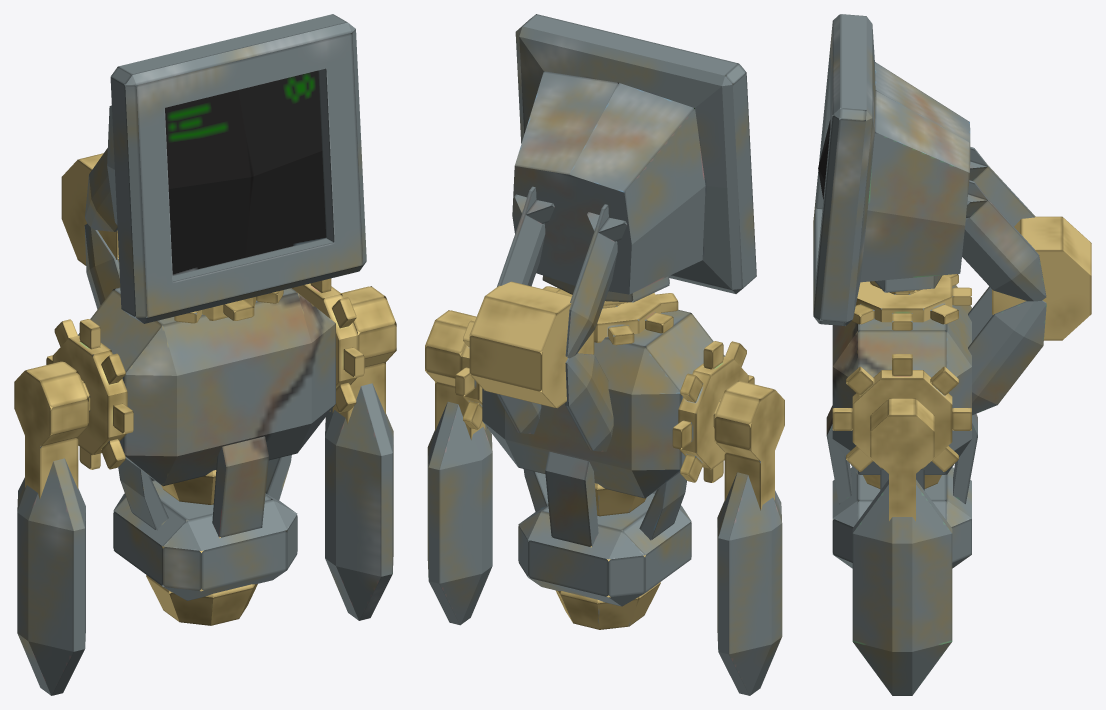
Rendered from NPC01.fbx.
3 views of the same model, side by side, from view 1: azimuth 30°, elevation 25°; view 2: azimuth 150°, elevation 25°; view 3: azimuth 270°, elevation 25° (orthographic). The views are drawn at different scales.
Visible parts, largest first — view 1: beveled_cuboid, beveled_cuboid_1, beveled_cuboid_6, cylinder_2, beveled_cuboid_7, beveled_cuboid_8, cylinder_1, sphere_1, cylinder_3, beveled_cuboid_5, beveled_cuboid_3, cylinder (+1 smaller); view 2: beveled_cuboid, beveled_cuboid_1, beveled_cuboid_6, cylinder_2, beveled_cuboid_7, beveled_cuboid_8, cylinder_3, cylinder_1, beveled_cuboid_3, beveled_cuboid_5, cylinder, beveled_cuboid_2 (+3 smaller); view 3: beveled_cuboid, beveled_cuboid_8, cylinder_1, beveled_cuboid_1, beveled_cuboid_6, cylinder_3, beveled_cuboid_2, beveled_cuboid_4, cylinder, beveled_cuboid_3, beveled_cuboid_5.
Boxes of the visible parts, x1=… form: beveled_cuboid: x1=107, y1=14, x2=366, y2=323; beveled_cuboid_1: x1=78, y1=287, x2=335, y2=486; beveled_cuboid_6: x1=113, y1=436, x2=297, y2=600; cylinder_2: x1=14, y1=319, x2=133, y2=498; beveled_cuboid_7: x1=17, y1=446, x2=85, y2=695; beveled_cuboid_8: x1=325, y1=383, x2=393, y2=620; cylinder_1: x1=292, y1=278, x2=396, y2=423; sphere_1: x1=146, y1=537, x2=257, y2=625; cylinder_3: x1=61, y1=153, x2=119, y2=265; beveled_cuboid_5: x1=84, y1=223, x2=120, y2=309; beveled_cuboid_3: x1=85, y1=148, x2=117, y2=231; cylinder: x1=174, y1=290, x2=283, y2=323; beveled_cuboid: x1=512, y1=14, x2=756, y2=302; beveled_cuboid_1: x1=482, y1=287, x2=724, y2=498; beveled_cuboid_6: x1=518, y1=451, x2=691, y2=606; cylinder_2: x1=672, y1=341, x2=784, y2=510; beveled_cuboid_7: x1=717, y1=460, x2=782, y2=695; beveled_cuboid_8: x1=427, y1=401, x2=492, y2=625; cylinder_3: x1=469, y1=281, x2=594, y2=408; cylinder_1: x1=425, y1=310, x2=487, y2=439; beveled_cuboid_3: x1=565, y1=204, x2=626, y2=358; beveled_cuboid_5: x1=565, y1=353, x2=613, y2=451; cylinder: x1=543, y1=286, x2=678, y2=345; beveled_cuboid_2: x1=497, y1=186, x2=554, y2=286; beveled_cuboid: x1=813, y1=14, x2=970, y2=325; beveled_cuboid_8: x1=852, y1=479, x2=952, y2=695; cylinder_1: x1=832, y1=354, x2=971, y2=521; beveled_cuboid_1: x1=832, y1=285, x2=971, y2=474; beveled_cuboid_6: x1=826, y1=405, x2=977, y2=568; cylinder_3: x1=992, y1=216, x2=1091, y2=340; beveled_cuboid_2: x1=962, y1=180, x2=1046, y2=301; beveled_cuboid_4: x1=968, y1=300, x2=1046, y2=415; cylinder: x1=851, y1=274, x2=971, y2=330; beveled_cuboid_3: x1=969, y1=147, x2=1035, y2=226; beveled_cuboid_5: x1=968, y1=286, x2=992, y2=341.
Bounding box in the file's own units: 119 × 196 × 87.33.
Materials: 1 (1 with a texture image).
